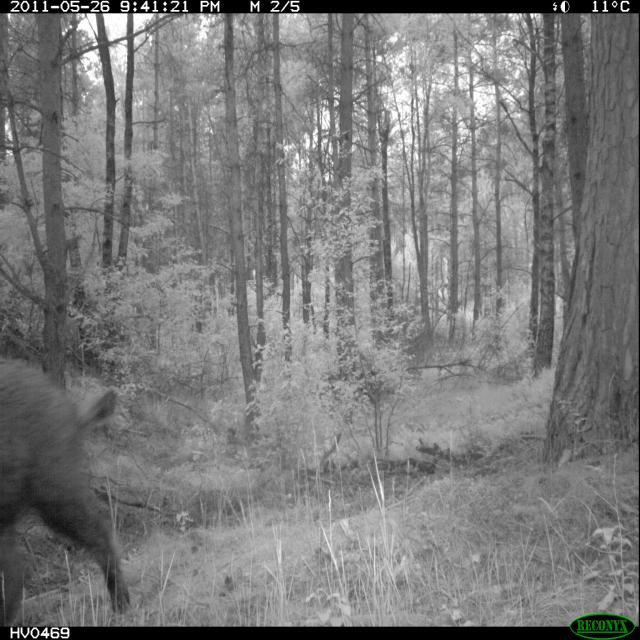boar: (0, 337, 154, 630)
